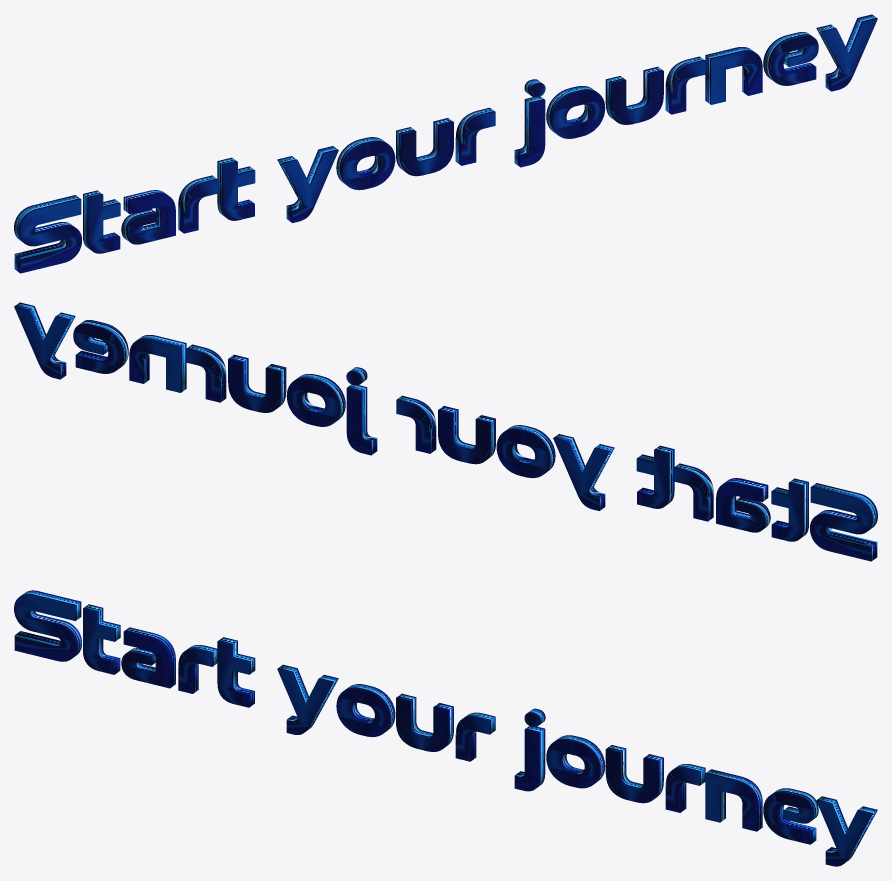
Rendered from startfont.glb.
3 views of the same model, one above another, from view 1: azimuth 30°, elevation 25°; view 2: azimuth 150°, elevation 25°; view 3: azimuth 330°, elevation 25° (orthographic).
Visible parts, largest first — view 1: Text; view 2: Text; view 3: Text.
Boxes of the visible parts, x1,y1,x2,y2 form: Text: (14,14,877,273); Text: (14,302,877,561); Text: (14,590,877,866).
Bounding box in the file's own units: 6.77 × 0.5985 × 0.08.
Materials: 1 (1 with a texture image).
